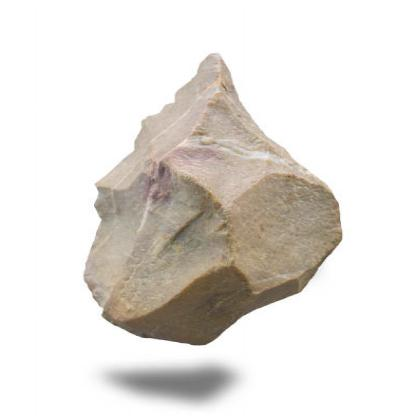Metamorphic_Quartize: (74, 35, 347, 357)
